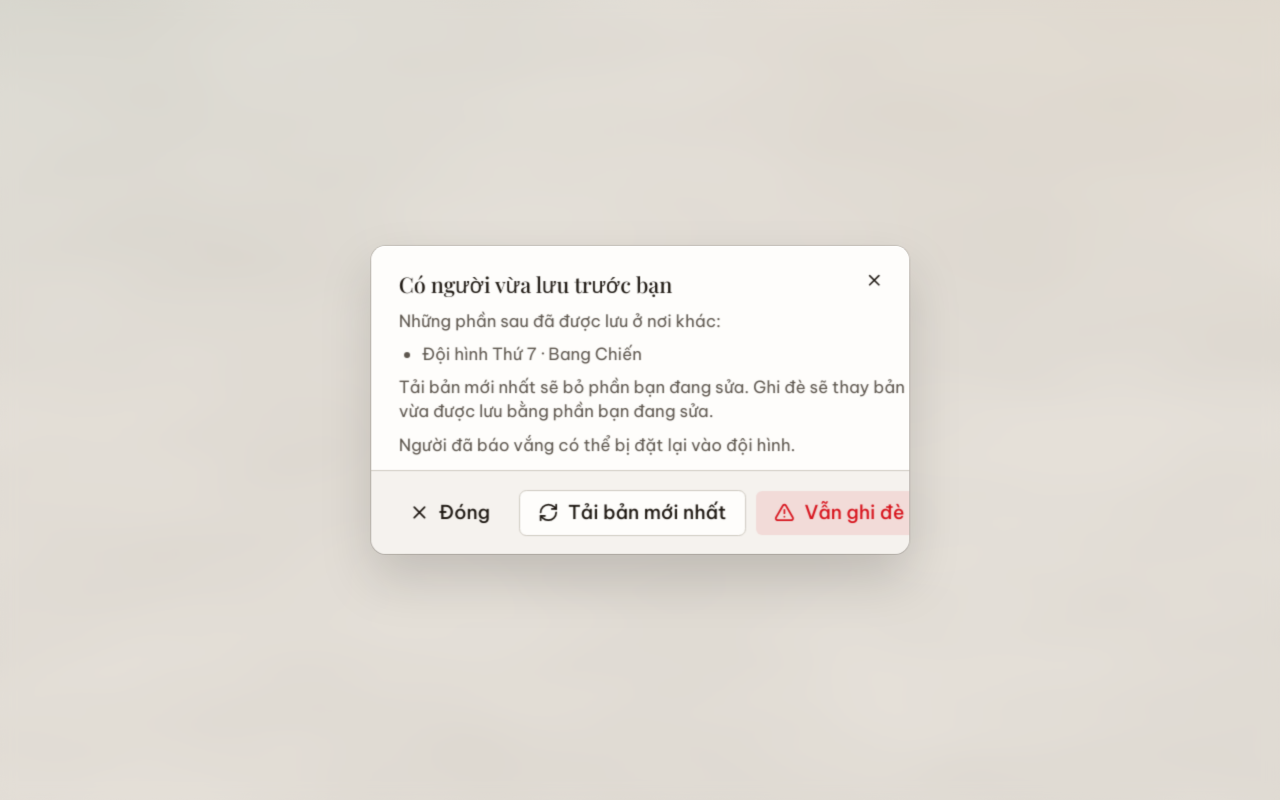
Test: SaveConflictDialog › ghi đè lỗi trước khi lưu: giữ dialog, hiện lý do
Step 1. Click the button "Vẫn ghi đè" → [840, 513], box [755,490,924,536]
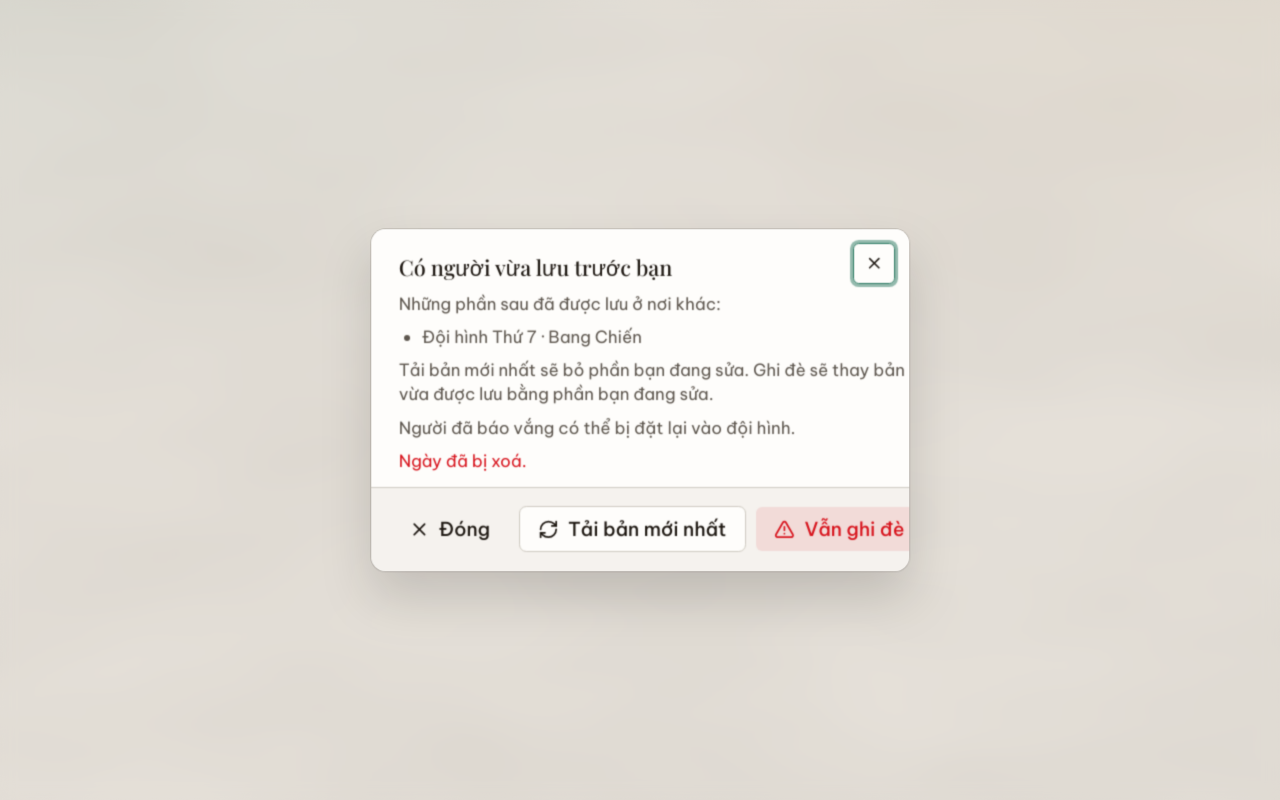
expect the message reads "Ngày đã bị xoá.": met, box [399,450,527,471]
